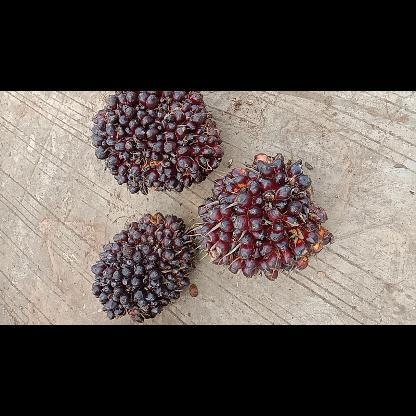TBS mentah: (192, 149, 334, 282), (88, 90, 228, 196), (87, 210, 199, 324)
